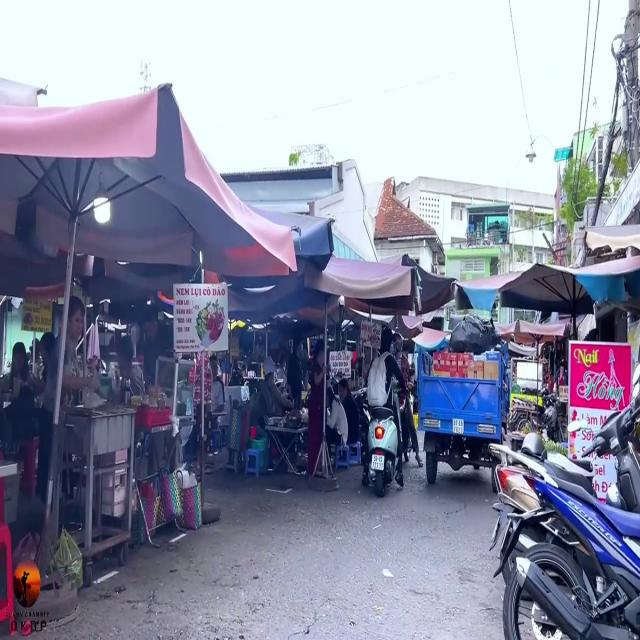bien_trang: (370, 448, 385, 478), (450, 417, 467, 438)
